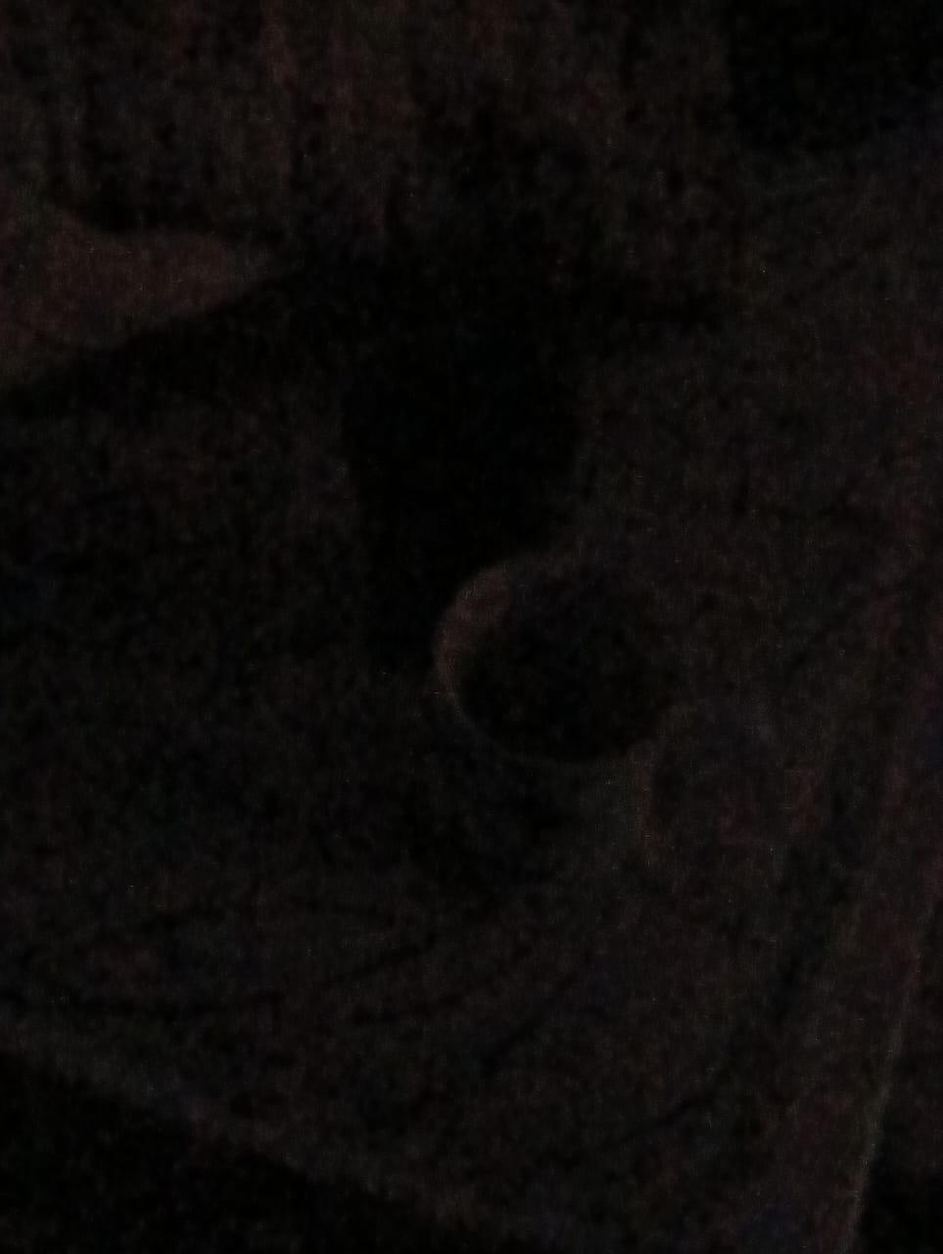cup: (430, 556, 678, 899), (461, 573, 666, 761), (696, 682, 794, 850)
